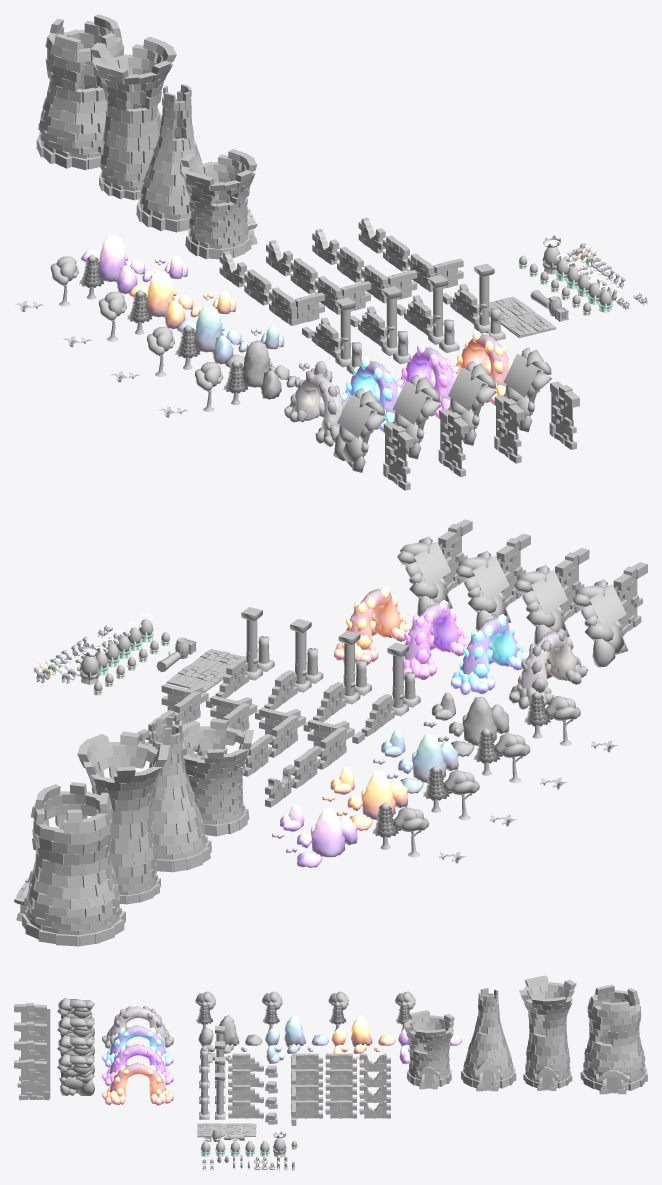
File: environment.fbx
The picture shows the model from 3 angles, top to bottom: view 1: azimuth 30°, elevation 25°; view 2: azimuth 150°, elevation 25°; view 3: azimuth 270°, elevation 25°; orthographic projection. The views are drawn at different scales.
Visible parts, largest first — view 1: fortress_4.002, fortress_3.002, fortress_1.003, fortress_2.002, wall_1_1.002, portal_1.002, wall_1_2.002, wall_1_4.002, wall_1_3.002, portal_2.002, portal_4.006, portal_3.002 (+26 smaller); view 2: fortress_4.002, fortress_3.002, fortress_1.003, fortress_2.002, portal_2.002, portal_1.002, portal_3.002, portal_4.006, wall_1_1.002, wall_1_2.002, wall_1_3.002, wall_1_4.002 (+32 smaller); view 3: fortress_4.002, fortress_3.002, fortress_2.002, fortress_1.003, portal_4.006, wall_1_4.002, wall_2_4.002, portal_2.002, portal_3.002, portal_1.002, wall_1_2.002, wall_1_3.002 (+24 smaller).
Part boxes in pixels (<box>): fortress_4.002: <box>36,14,123,170</box>; fortress_3.002: <box>90,36,176,200</box>; fortress_1.003: <box>180,149,257,259</box>; fortress_2.002: <box>136,84,202,232</box>; wall_1_1.002: <box>333,388,385,472</box>; portal_1.002: <box>284,370,346,446</box>; wall_1_2.002: <box>392,374,440,459</box>; wall_1_4.002: <box>503,347,551,432</box>; wall_1_3.002: <box>448,361,496,445</box>; portal_2.002: <box>340,357,401,432</box>; portal_4.006: <box>451,330,513,405</box>; portal_3.002: <box>396,343,457,419</box>; fortress_4.002: <box>14,782,125,946</box>; fortress_3.002: <box>77,731,169,904</box>; fortress_1.003: <box>182,718,253,836</box>; fortress_2.002: <box>149,716,211,872</box>; portal_2.002: <box>450,614,528,695</box>; portal_1.002: <box>509,628,587,709</box>; portal_3.002: <box>392,599,470,680</box>; portal_4.006: <box>333,585,412,665</box>; wall_1_1.002: <box>572,579,627,667</box>; wall_1_2.002: <box>514,565,569,644</box>; wall_1_3.002: <box>456,550,510,630</box>; wall_1_4.002: <box>397,536,452,615</box>; fortress_4.002: <box>580,984,647,1094</box>; fortress_3.002: <box>519,975,576,1090</box>; fortress_2.002: <box>461,987,516,1091</box>; fortress_1.003: <box>404,1010,454,1089</box>; portal_4.006: <box>102,1062,173,1105</box>; wall_1_4.002: <box>57,1054,94,1095</box>; wall_2_4.002: <box>14,1059,50,1100</box>; portal_2.002: <box>102,1024,173,1067</box>; portal_3.002: <box>102,1043,173,1086</box>; portal_1.002: <box>102,1006,173,1048</box>; wall_1_2.002: <box>57,1017,94,1055</box>; wall_1_3.002: <box>57,1035,94,1074</box>.
Bounding box in the file's own units: 32.64 × 8.66 × 52.81.
